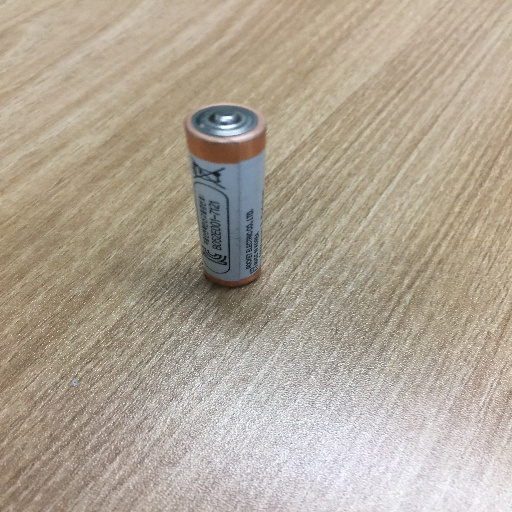Battery_0: (177, 97, 277, 305)
